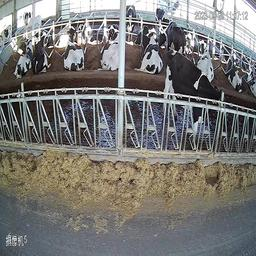cow: (165, 44, 225, 131), (134, 32, 164, 74), (63, 26, 85, 70), (12, 35, 35, 76), (221, 50, 243, 92), (194, 39, 214, 84), (157, 26, 185, 54), (31, 34, 51, 73), (98, 34, 119, 69), (126, 5, 136, 43), (0, 22, 12, 50), (153, 6, 170, 25), (104, 23, 119, 44), (247, 64, 255, 98)
